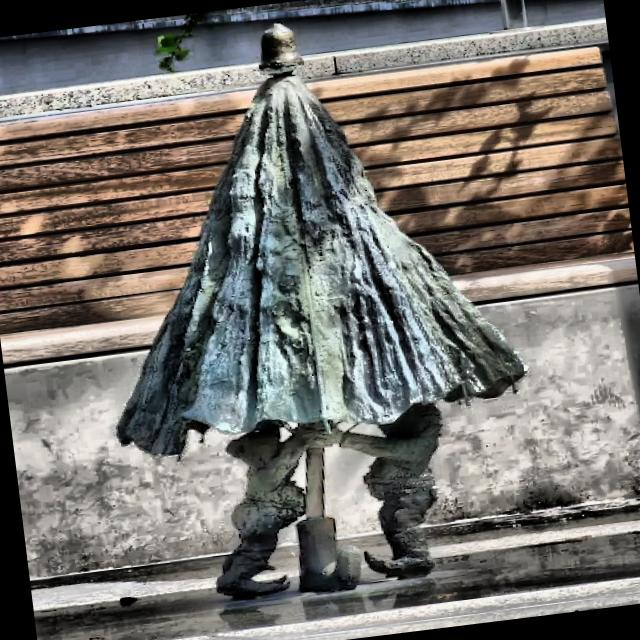Parasolniki: (116, 24, 529, 600)
